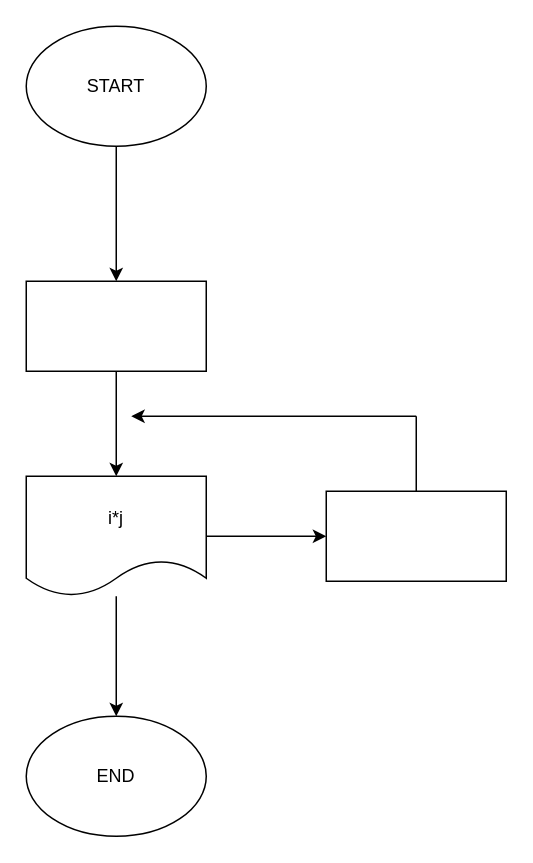
Image size: 533x863. Some labels were removed from this diagram. Here are the shapes that lost their labels. From the top down, the box of each, then its label:
(25, 280, 206, 371): i=1 j=6
(325, 490, 506, 581): i++
